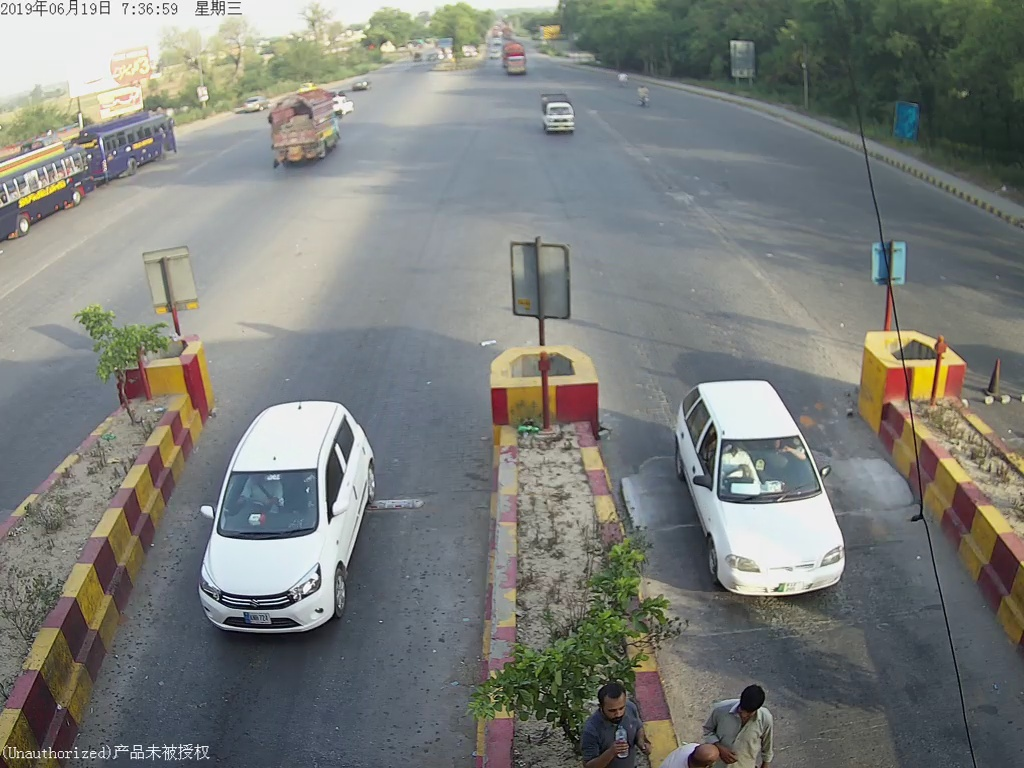Cat-1: (198, 402, 379, 632), (676, 368, 853, 595), (533, 87, 582, 136)
